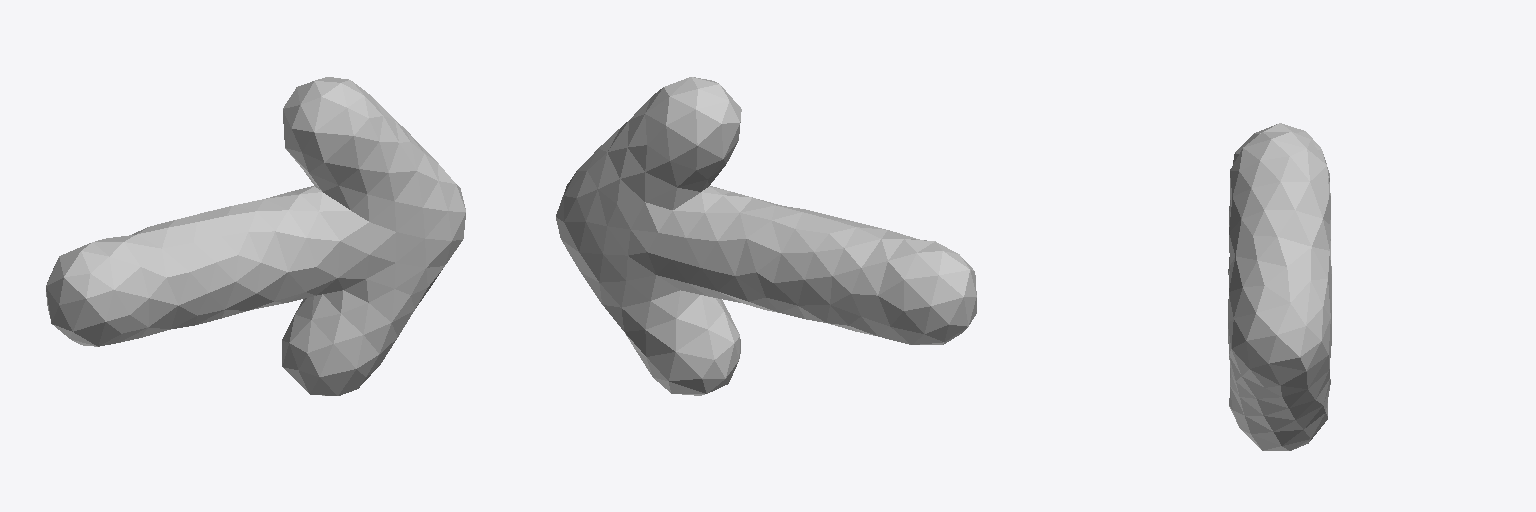
File: arrow2.obj
The picture shows the model from 3 angles: view 1: azimuth 30°, elevation 25°; view 2: azimuth 150°, elevation 25°; view 3: azimuth 270°, elevation 25°; orthographic projection.
Size of the model in its own units: 3.01 by 2.22 by 0.671.